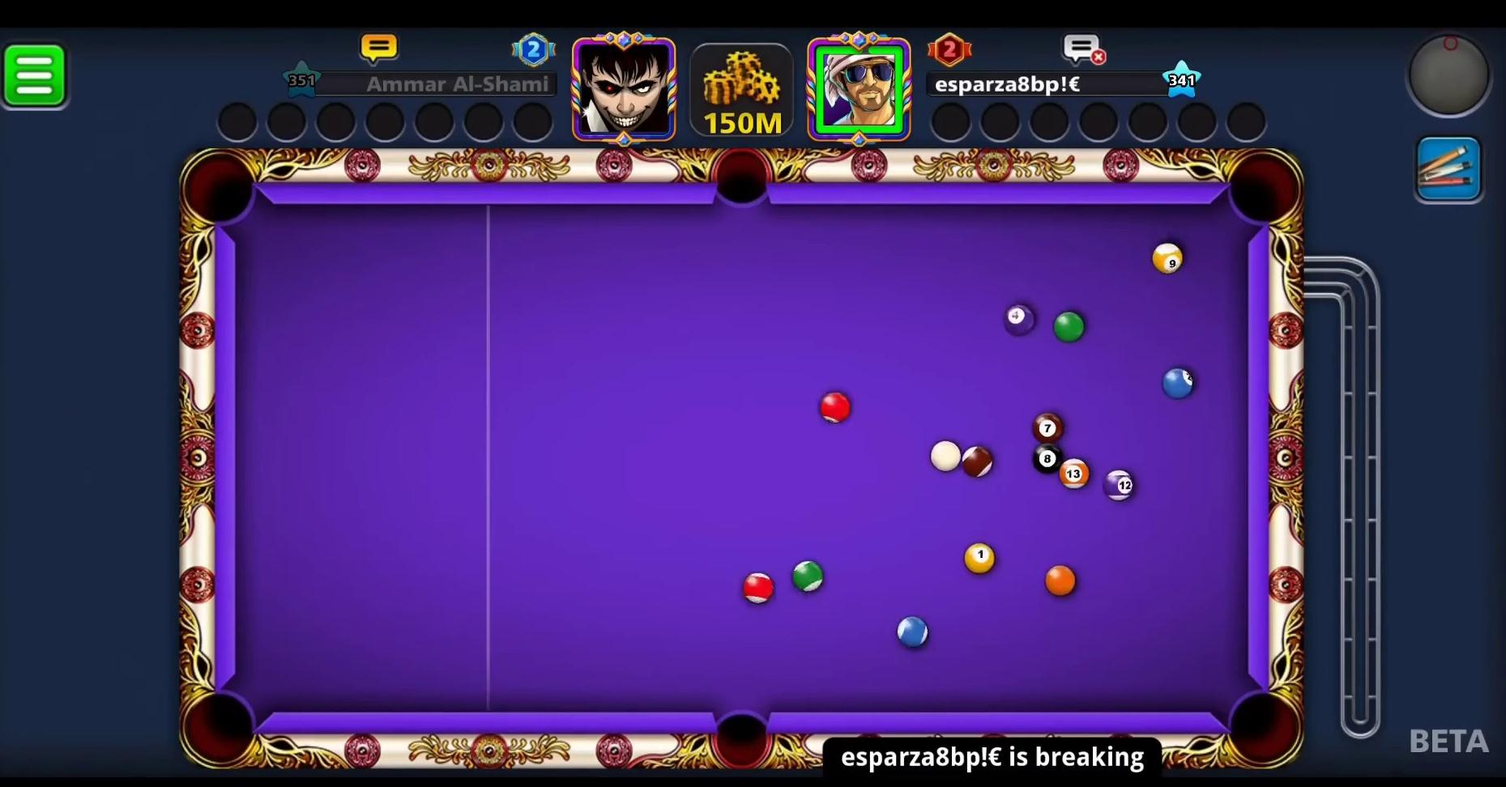Ball: (1023, 437, 1078, 483), (952, 437, 1004, 485), (1144, 240, 1190, 280), (809, 389, 856, 427), (1000, 302, 1042, 338), (894, 615, 933, 653), (738, 572, 779, 606), (1161, 364, 1197, 399), (1099, 469, 1136, 503), (1051, 310, 1089, 343), (788, 560, 824, 594), (1056, 457, 1093, 490), (1044, 565, 1080, 598), (964, 542, 997, 575), (1032, 411, 1065, 443)
Hole: (1216, 679, 1308, 776), (173, 143, 267, 233), (1218, 139, 1304, 235), (699, 692, 786, 776), (180, 687, 264, 772), (702, 141, 783, 222)
Play_Area: (233, 202, 1244, 714)
Spin: (1399, 28, 1504, 131)
White: (928, 440, 962, 474)
